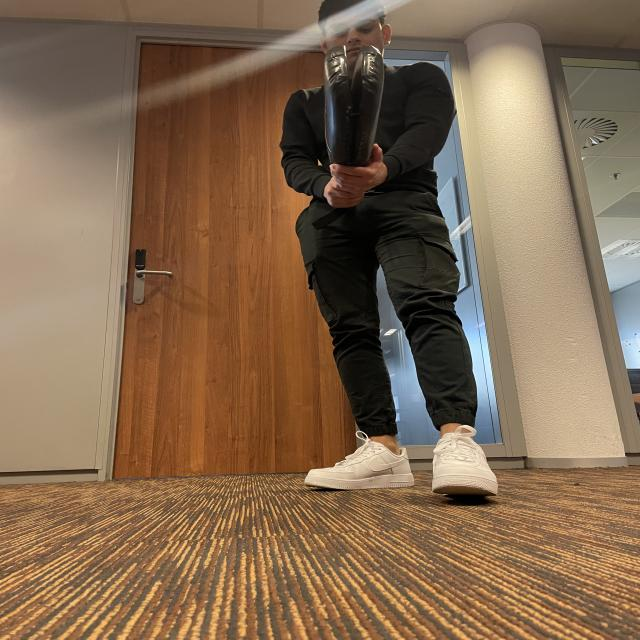paddle: (328, 43, 382, 165)
